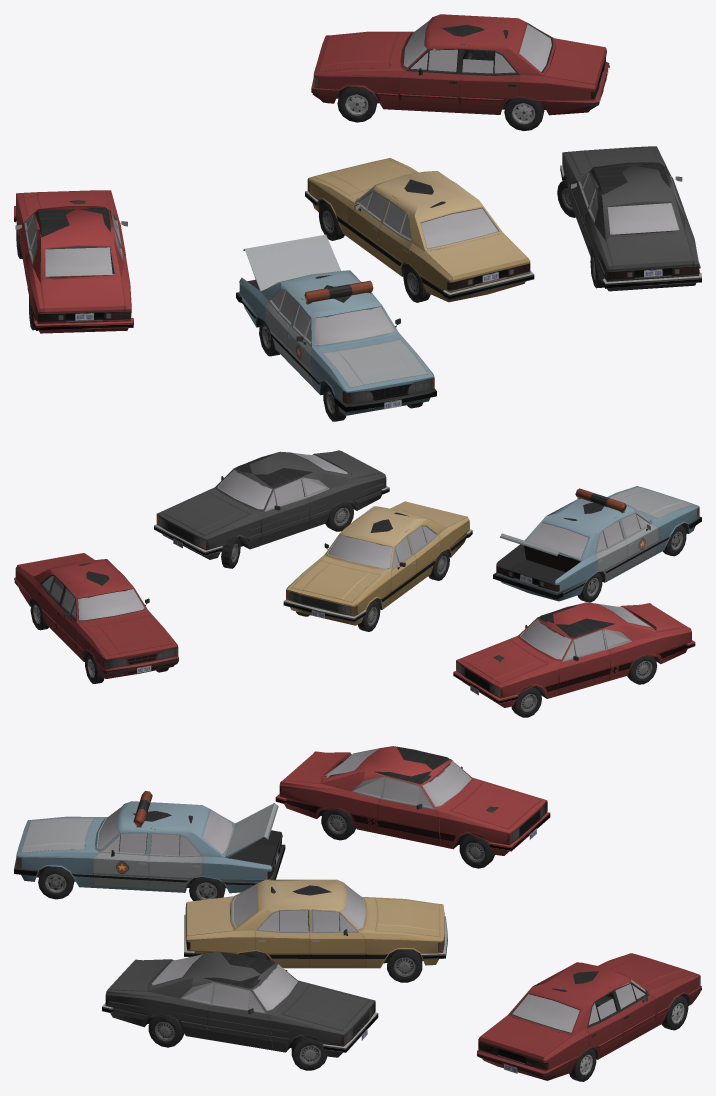
The model's file is chevrolet-opala.glb.
The picture shows the model from 3 angles, top to bottom: view 1: azimuth 30°, elevation 25°; view 2: azimuth 150°, elevation 25°; view 3: azimuth 270°, elevation 25°; orthographic projection. The views are drawn at different scales.
Visible parts, largest first — view 1: Object_15, Object_13, Object_7, Object_9, Object_11, Object_5, Object_2, Object_4, Object_3, Object_16, Object_6, Object_8 (+2 smaller); view 2: Object_11, Object_9, Object_13, Object_7, Object_15, Object_12, Object_10, Object_14, Object_8, Object_4, Object_3, Object_2 (+2 smaller); view 3: Object_13, Object_9, Object_11, Object_7, Object_15, Object_6, Object_10, Object_12, Object_14, Object_2, Object_5, Object_16 (+3 smaller).
Part boxes in pixels (x1=…): Object_15: x1=311, y1=14, x2=609, y2=115; Object_13: x1=236, y1=270, x2=436, y2=415; Object_7: x1=305, y1=158, x2=534, y2=302; Object_9: x1=560, y1=146, x2=701, y2=291; Object_11: x1=14, y1=190, x2=133, y2=333; Object_5: x1=243, y1=234, x2=340, y2=291; Object_2: x1=426, y1=233, x2=528, y2=282; Object_4: x1=40, y1=277, x2=124, y2=313; Object_3: x1=606, y1=232, x2=693, y2=270; Object_16: x1=337, y1=86, x2=544, y2=130; Object_6: x1=544, y1=38, x2=606, y2=89; Object_8: x1=319, y1=202, x2=430, y2=302; Object_11: x1=453, y1=602, x2=695, y2=707; Object_9: x1=154, y1=450, x2=389, y2=559; Object_13: x1=493, y1=486, x2=701, y2=601; Object_7: x1=283, y1=506, x2=472, y2=625; Object_15: x1=14, y1=559, x2=178, y2=678; Object_12: x1=511, y1=656, x2=657, y2=717; Object_10: x1=221, y1=503, x2=353, y2=568; Object_14: x1=577, y1=525, x2=686, y2=602; Object_8: x1=296, y1=550, x2=449, y2=631; Object_4: x1=622, y1=604, x2=687, y2=631; Object_3: x1=314, y1=451, x2=382, y2=478; Object_2: x1=390, y1=501, x2=467, y2=527; Object_13: x1=14, y1=791, x2=285, y2=893; Object_9: x1=102, y1=777, x2=383, y2=1057; Object_11: x1=183, y1=746, x2=550, y2=1001; Object_7: x1=184, y1=879, x2=447, y2=968; Object_15: x1=477, y1=953, x2=701, y2=1080; Object_6: x1=479, y1=1015, x2=572, y2=1061; Object_10: x1=148, y1=1016, x2=327, y2=1070; Object_12: x1=321, y1=809, x2=494, y2=868; Object_14: x1=38, y1=866, x2=225, y2=900; Object_2: x1=185, y1=896, x2=233, y2=940; Object_5: x1=224, y1=803, x2=278, y2=857; Object_16: x1=569, y1=995, x2=688, y2=1081.
Size of the model in its own units: 0.1631 by 0.0202 by 0.153.
15 materials, 15 textured.
